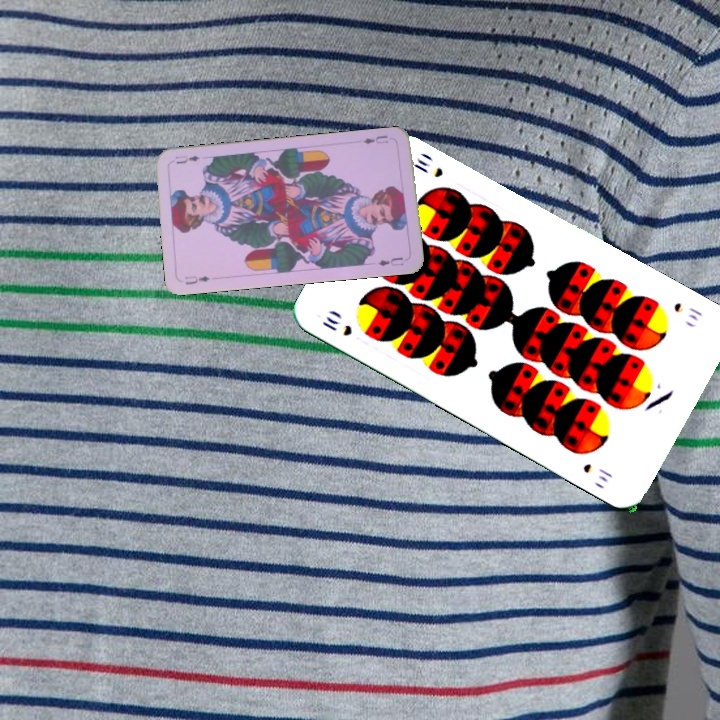EU: (359, 131, 391, 147), (181, 272, 212, 287)
S10: (318, 312, 355, 339), (669, 298, 705, 324)
